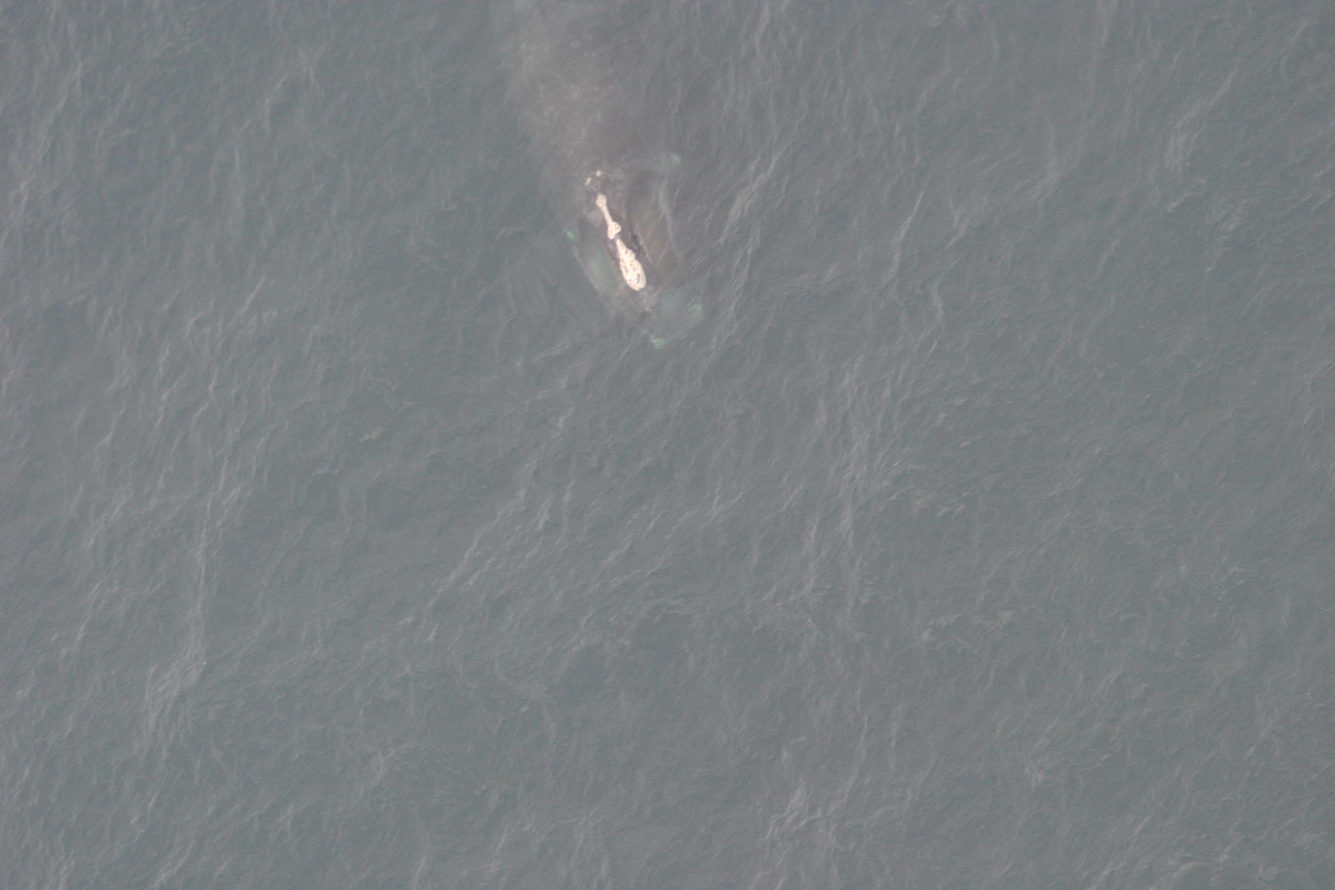whale: (476, 0, 711, 356)
